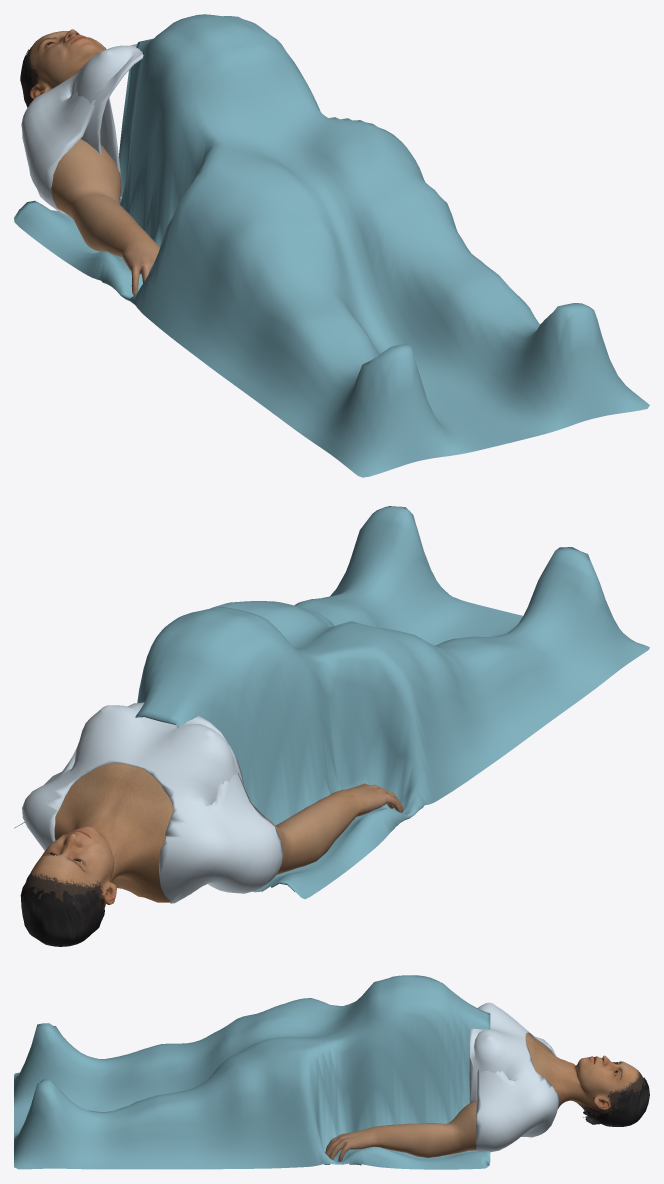
3 views of the same model, one above another, from view 1: azimuth 30°, elevation 25°; view 2: azimuth 150°, elevation 25°; view 3: azimuth 270°, elevation 25° (orthographic). The views are drawn at different scales.
Visible parts, largest first — view 1: sheet, gown, arms, body; view 2: sheet, gown, body, arms, hair; view 3: sheet, gown, body, arms, hair.
Boxes of the visible parts, left/top/right/bottom form: sheet: left=14, top=14, right=649, bottom=477; gown: left=21, top=44, right=143, bottom=215; arms: left=51, top=139, right=159, bottom=295; body: left=25, top=29, right=106, bottom=99; sheet: left=14, top=506, right=649, bottom=899; gown: left=22, top=702, right=283, bottom=903; body: left=24, top=763, right=172, bottom=912; arms: left=266, top=783, right=404, bottom=874; hair: left=20, top=875, right=104, bottom=946; sheet: left=14, top=975, right=490, bottom=1169; gown: left=469, top=1002, right=558, bottom=1152; body: left=526, top=1033, right=645, bottom=1116; arms: left=325, top=1101, right=476, bottom=1161; hair: left=583, top=1077, right=649, bottom=1126.
Size of the model in its own units: 0.6406 by 0.4346 by 1.78.
Materials: 8 (6 with a texture image).
